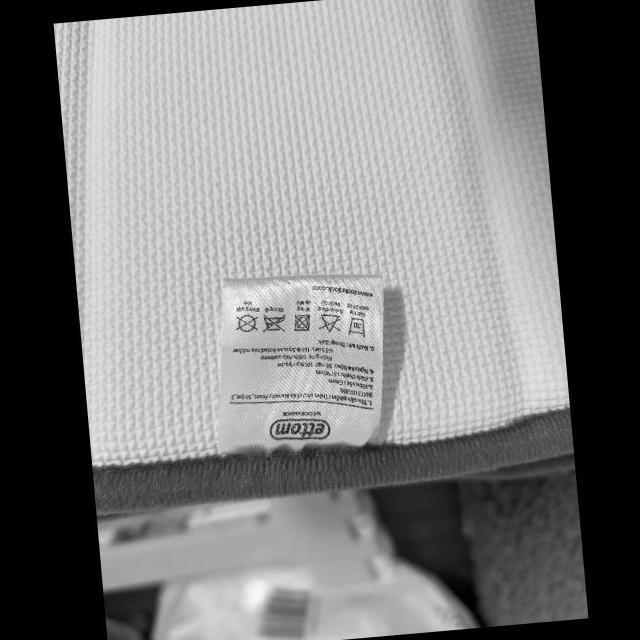30C: (344, 314, 366, 338)
DN_bleach: (317, 310, 341, 334)
DN_dry_clean: (233, 312, 259, 333)
DN_iron: (259, 311, 287, 333)
DN_tumble_dry: (291, 312, 311, 332)
